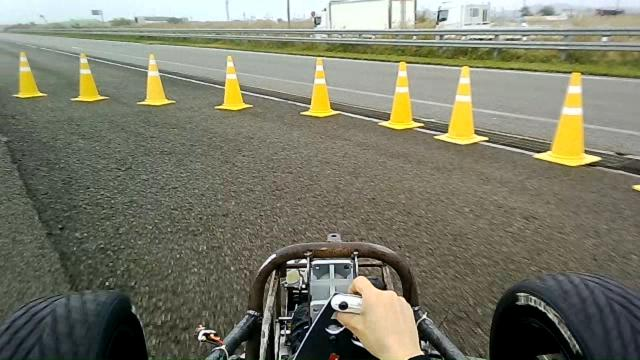yellow cone: (533, 70, 602, 167), (434, 65, 489, 145), (377, 60, 425, 130), (299, 56, 341, 118), (214, 54, 254, 111), (136, 53, 176, 106), (70, 52, 110, 102), (12, 50, 47, 98)
